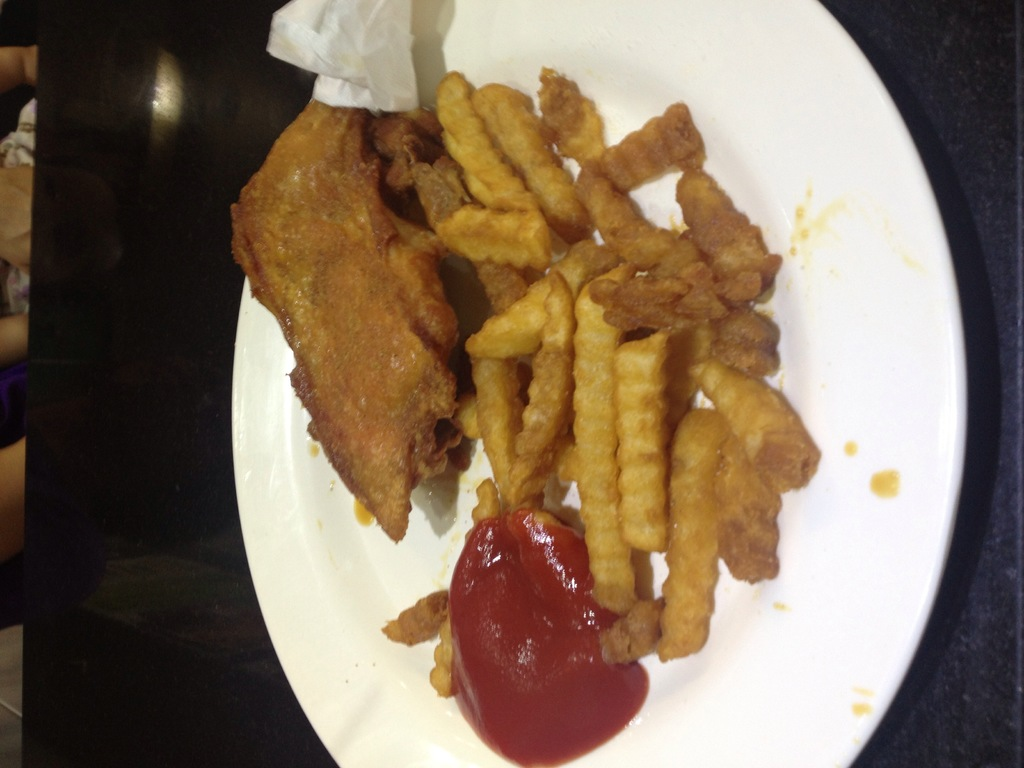French fries: (427, 240, 812, 666)
